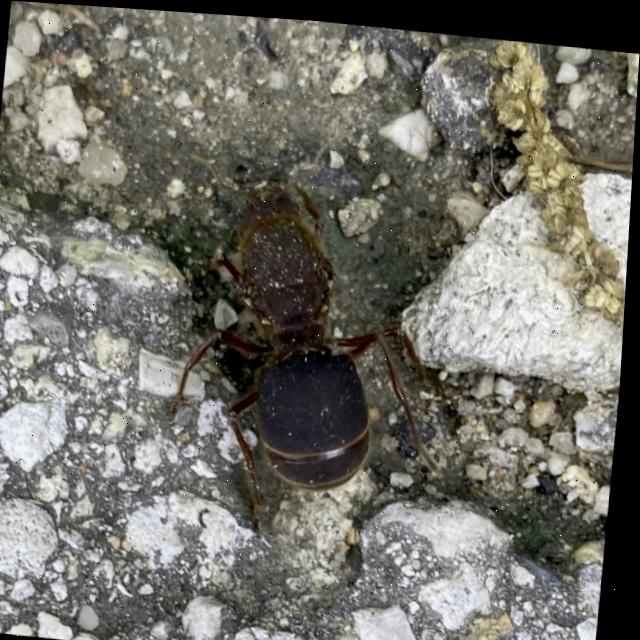Alive-Female-Dealate: (162, 117, 472, 552)
